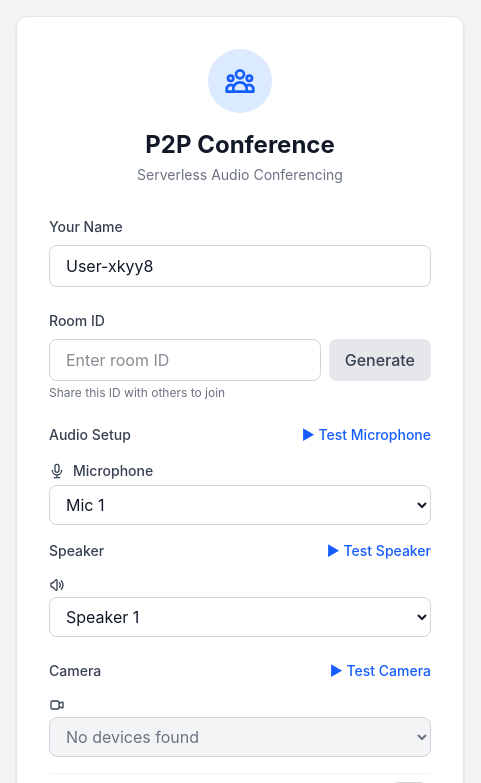
LobbyView › shows security warning for short room IDs
In the field with placeholder "Enter room ID": {"x": 185, "y": 360} [49,339,321,381], type "abc"
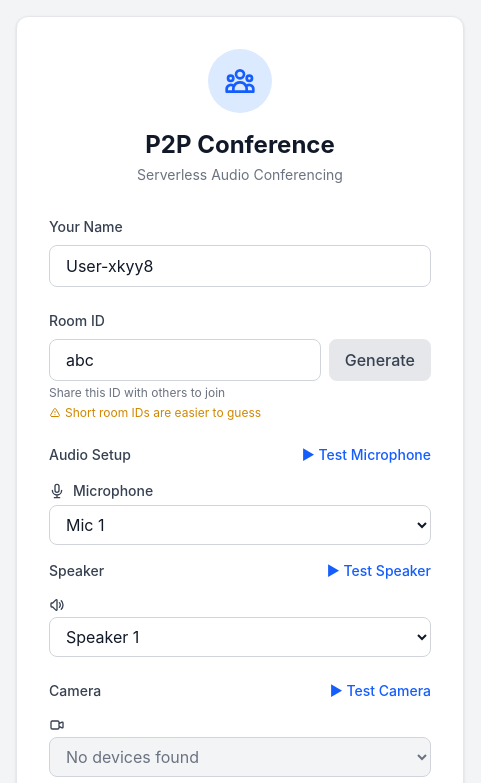
Expected: the text "Short room IDs are easier to guess" is shown, [49,405,261,420]
